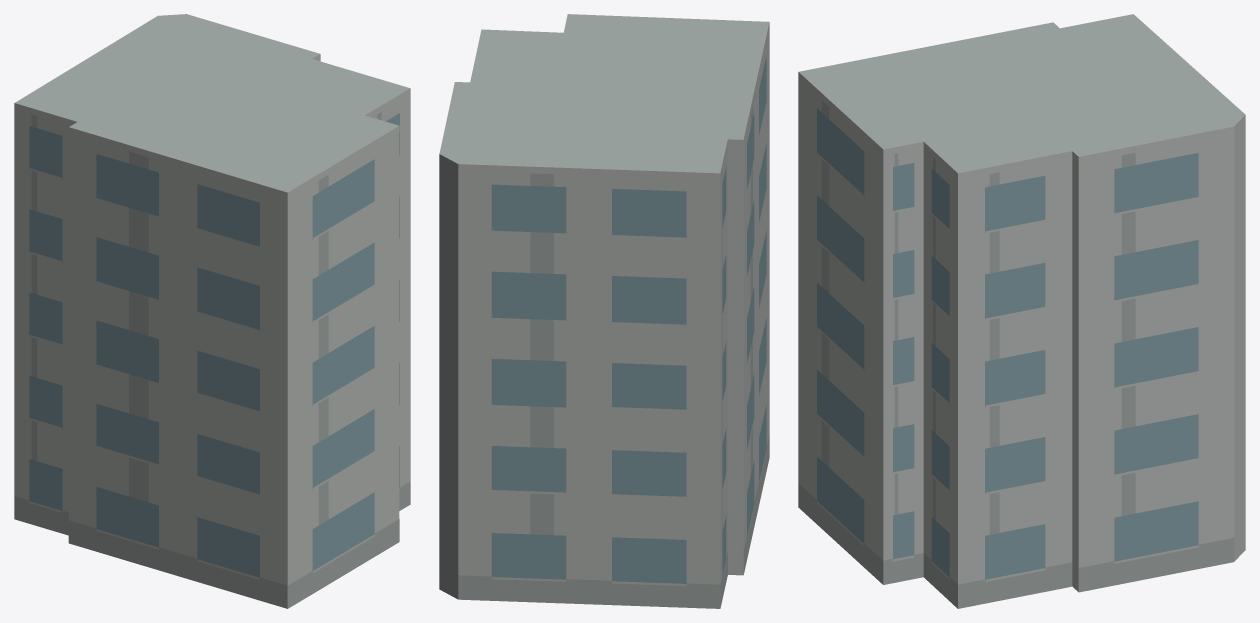
The model's file is survey-upis-32820631.glb.
3 renders of one model, left to right at view 1: azimuth 30°, elevation 25°; view 2: azimuth 150°, elevation 25°; view 3: azimuth 270°, elevation 25°, orthographic. The views are drawn at different scales.
Parts seen in each view (by area): view 1: survey-upis-32820631.tmp; view 2: survey-upis-32820631.tmp; view 3: survey-upis-32820631.tmp.
Boxes of the visible parts, x1,y1,x2,y2 form: survey-upis-32820631.tmp: (14,14,410,608); survey-upis-32820631.tmp: (439,14,769,608); survey-upis-32820631.tmp: (798,14,1245,608).
Bounding box in the file's own units: 12.33 × 15.7 × 14.62.
